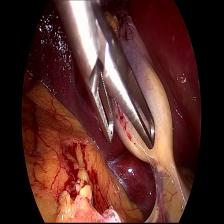Grasper: (55, 5, 158, 156)
